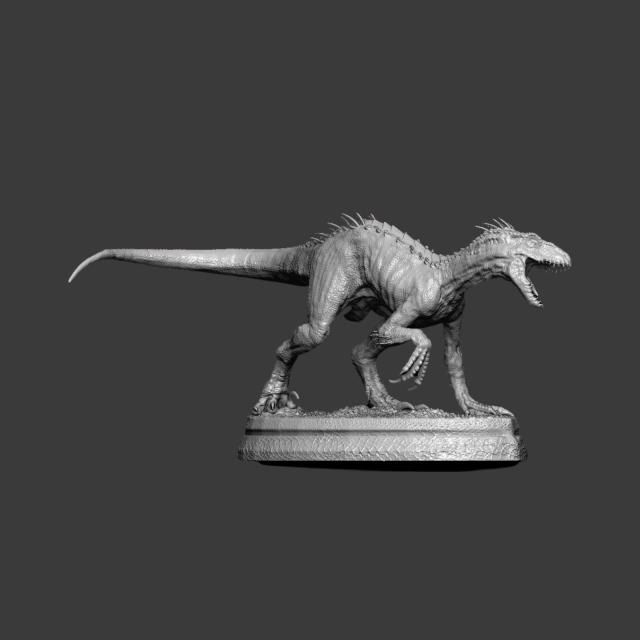Without deffect: (56, 188, 603, 487)
